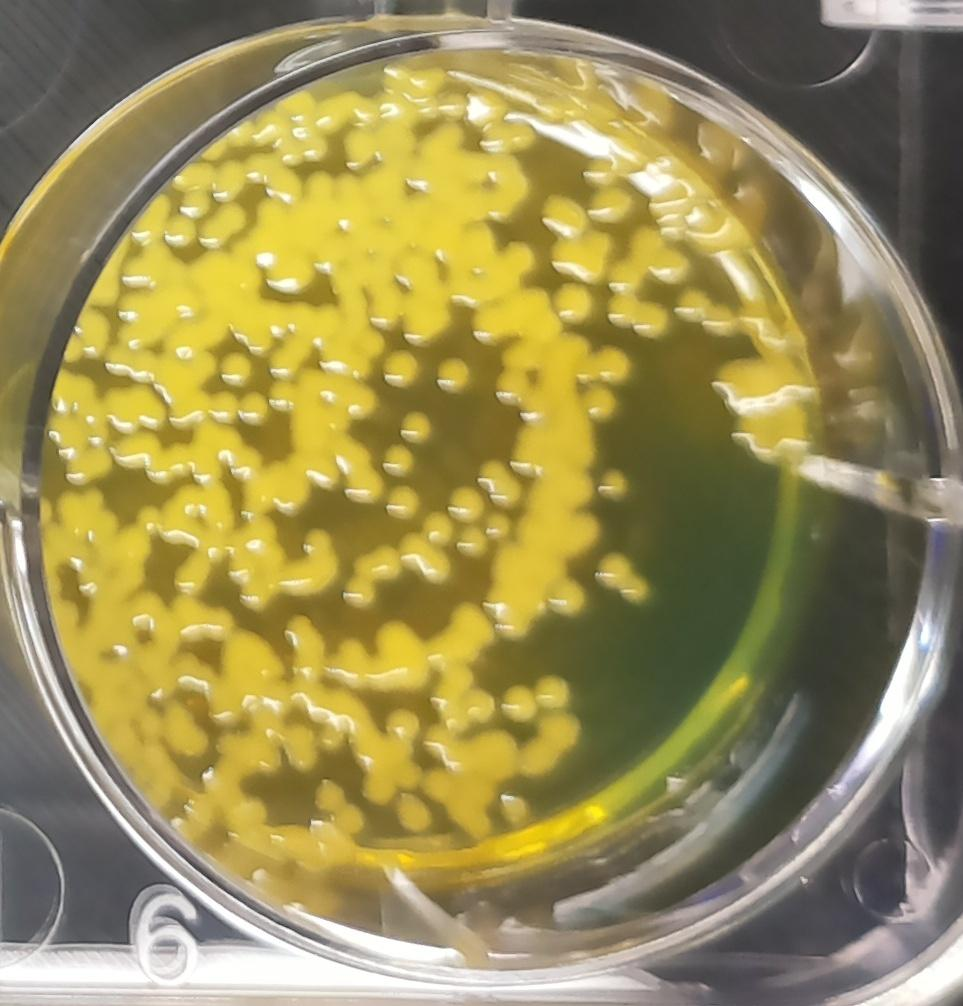ahydrophila: (267, 372, 384, 510), (44, 486, 162, 594), (321, 686, 426, 804), (707, 351, 811, 465), (245, 176, 338, 295), (424, 729, 517, 843), (331, 615, 429, 693), (538, 192, 616, 285), (519, 711, 582, 778), (594, 543, 653, 613), (674, 285, 737, 341), (472, 454, 527, 515), (379, 344, 423, 393), (547, 576, 588, 625), (433, 353, 478, 397), (596, 463, 635, 511), (397, 404, 437, 450), (498, 677, 537, 723), (382, 480, 421, 523), (380, 439, 417, 481), (447, 482, 484, 524), (455, 527, 490, 565)
